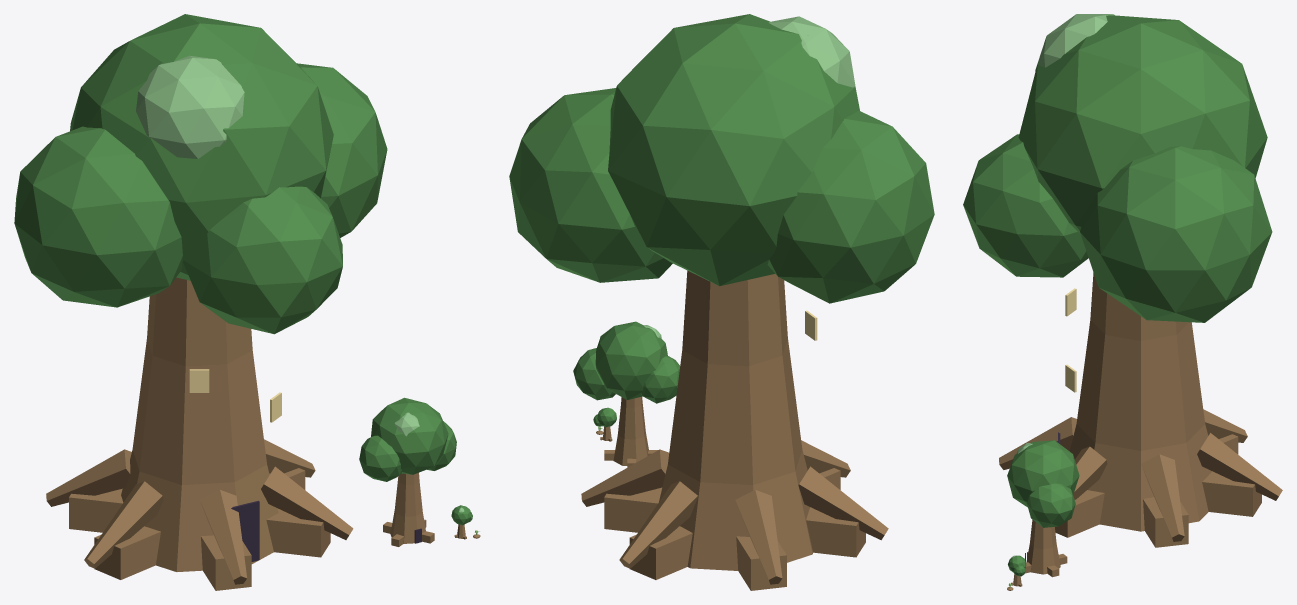
File: forest-g3.glb
3 renders of one model, left to right at view 1: azimuth 30°, elevation 25°; view 2: azimuth 150°, elevation 25°; view 3: azimuth 270°, elevation 25°, orthographic. The views are drawn at different scales.
Parts seen in each view (by area): view 1: forest-g3; view 2: forest-g3; view 3: forest-g3.
Part boxes in pixels (left/top/right/bottom): forest-g3: left=14, top=14, right=480, bottom=590; forest-g3: left=509, top=14, right=934, bottom=590; forest-g3: left=963, top=14, right=1282, bottom=590.
Size of the model in its own units: 3.6 by 4.55 by 2.78.
